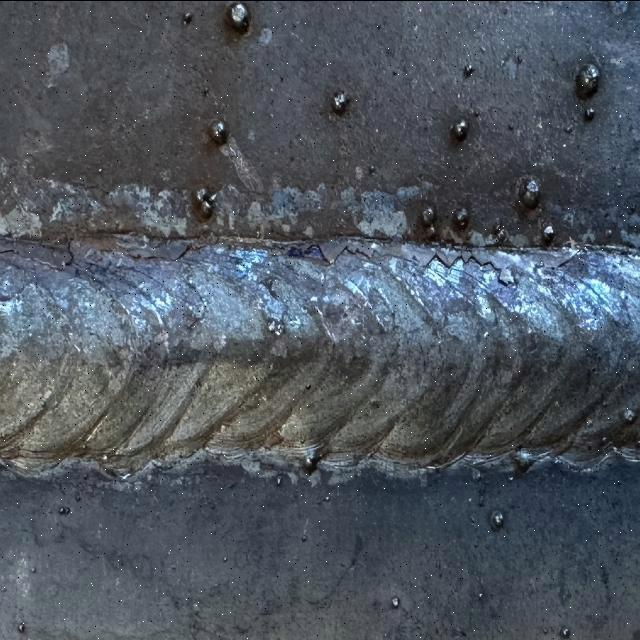Spatters: (575, 63, 598, 100), (519, 175, 540, 208), (300, 448, 321, 475), (512, 447, 534, 472), (231, 2, 249, 30), (209, 118, 227, 145), (196, 187, 212, 217), (331, 90, 349, 115), (452, 207, 469, 230), (455, 118, 469, 140), (490, 508, 504, 530), (422, 207, 435, 223), (462, 63, 474, 78), (544, 223, 554, 240), (196, 187, 209, 200), (624, 408, 636, 422), (584, 107, 595, 122), (464, 63, 475, 77), (390, 595, 400, 608), (182, 12, 192, 23), (561, 627, 570, 638), (391, 595, 399, 607), (59, 505, 70, 513), (18, 622, 25, 633), (202, 87, 209, 97), (301, 532, 308, 542), (276, 475, 282, 485), (614, 500, 622, 507), (368, 165, 375, 173), (222, 555, 228, 562), (31, 565, 36, 573), (325, 495, 330, 502), (391, 70, 397, 75), (98, 167, 102, 172)
